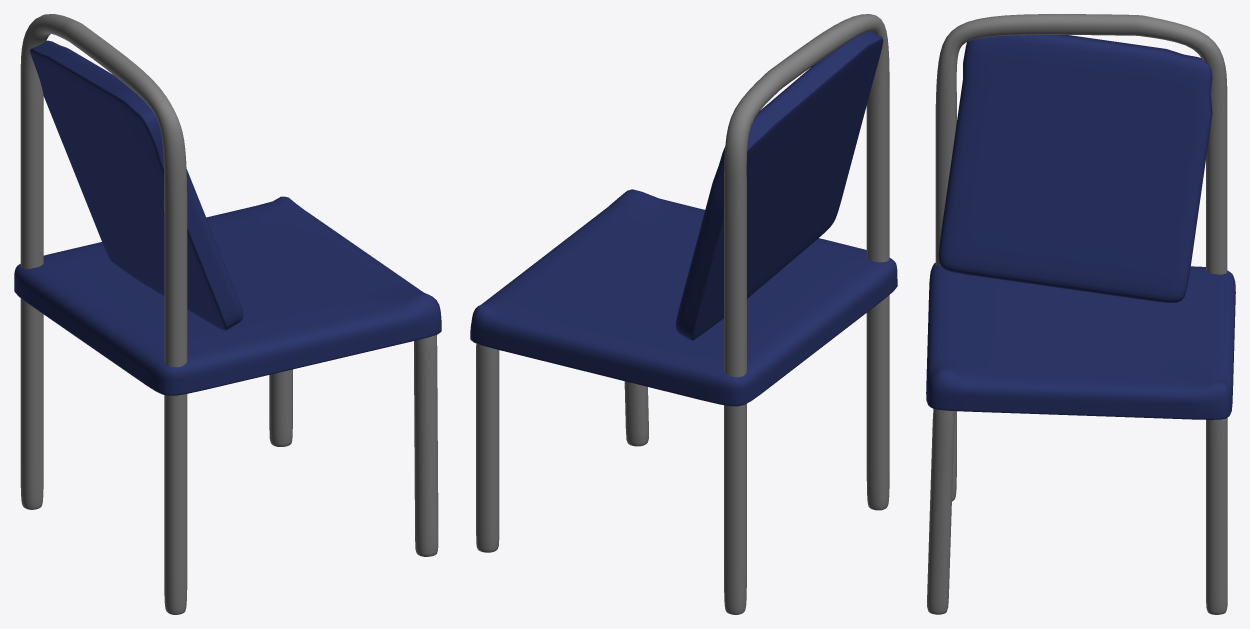
File: Chair_02.fbx
3 renders of one model, left to right at view 1: azimuth 30°, elevation 25°; view 2: azimuth 150°, elevation 25°; view 3: azimuth 270°, elevation 25°, orthographic. The views are drawn at different scales.
Parts seen in each view (by area): view 1: Chair_02_Seat, Chair_02_Back_Leg, Chair_02_Back, Chair_02_Leg.R, Chair_02_Leg.L; view 2: Chair_02_Seat, Chair_02_Back, Chair_02_Back_Leg, Chair_02_Leg.L, Chair_02_Leg.R; view 3: Chair_02_Back, Chair_02_Seat, Chair_02_Back_Leg, Chair_02_Leg.R, Chair_02_Leg.L.
Part boxes in pixels (x1=…): Chair_02_Seat: x1=14, y1=196, x2=441, y2=395; Chair_02_Back_Leg: x1=20, y1=14, x2=187, y2=614; Chair_02_Back: x1=30, y1=40, x2=243, y2=330; Chair_02_Leg.R: x1=414, y1=335, x2=438, y2=556; Chair_02_Leg.L: x1=269, y1=369, x2=292, y2=446; Chair_02_Seat: x1=470, y1=189, x2=897, y2=406; Chair_02_Back: x1=675, y1=31, x2=883, y2=340; Chair_02_Back_Leg: x1=724, y1=14, x2=889, y2=614; Chair_02_Leg.L: x1=476, y1=343, x2=499, y2=552; Chair_02_Leg.R: x1=624, y1=381, x2=648, y2=446; Chair_02_Back: x1=938, y1=35, x2=1212, y2=302; Chair_02_Seat: x1=926, y1=263, x2=1235, y2=419; Chair_02_Back_Leg: x1=935, y1=14, x2=1227, y2=501; Chair_02_Leg.R: x1=927, y1=408, x2=954, y2=614; Chair_02_Leg.L: x1=1206, y1=417, x2=1227, y2=614.
Bounding box in the file's own units: 203 × 349 × 202.
